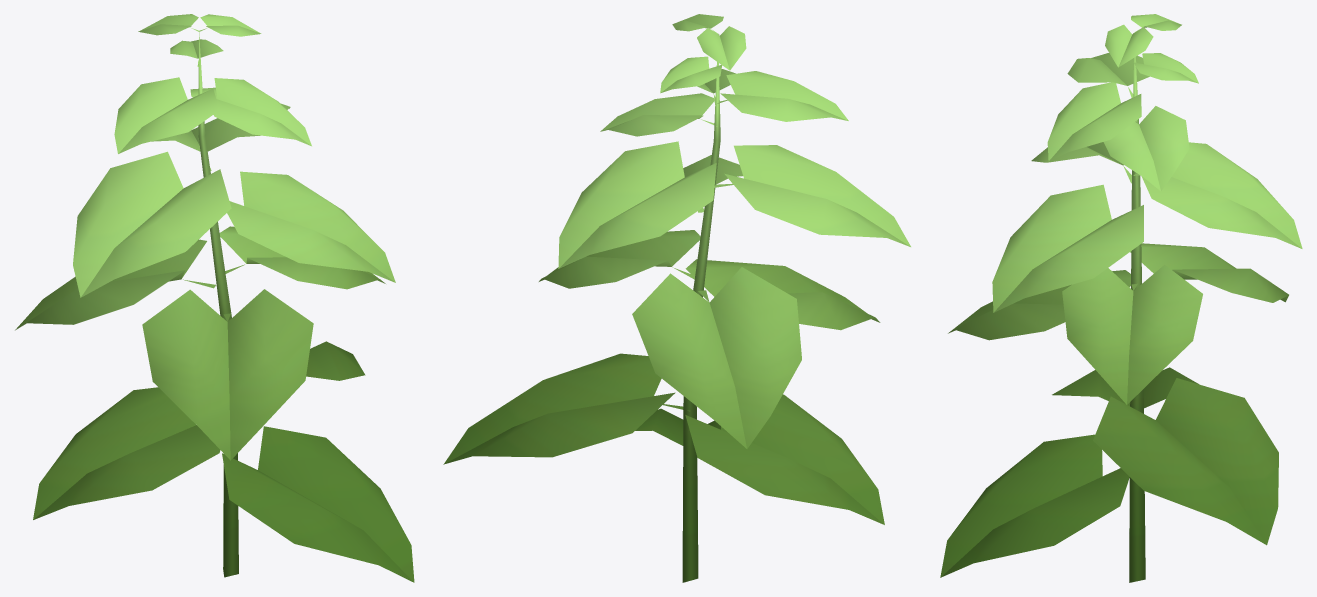
File: pack03_foliage2_01.fbx
The picture shows the model from 3 angles, left to right: view 1: azimuth 30°, elevation 25°; view 2: azimuth 150°, elevation 25°; view 3: azimuth 270°, elevation 25°; orthographic projection. The views are drawn at different scales.
Visible parts, largest first — view 1: Grass; view 2: Grass; view 3: Grass.
Boxes of the visible parts, x1,y1,x2,y2 form: Grass: (15,14,414,582); Grass: (443,14,910,582); Grass: (940,14,1302,582).
Size of the model in its own units: 79.83 by 115 by 69.59.
Materials: 1 (1 with a texture image).
